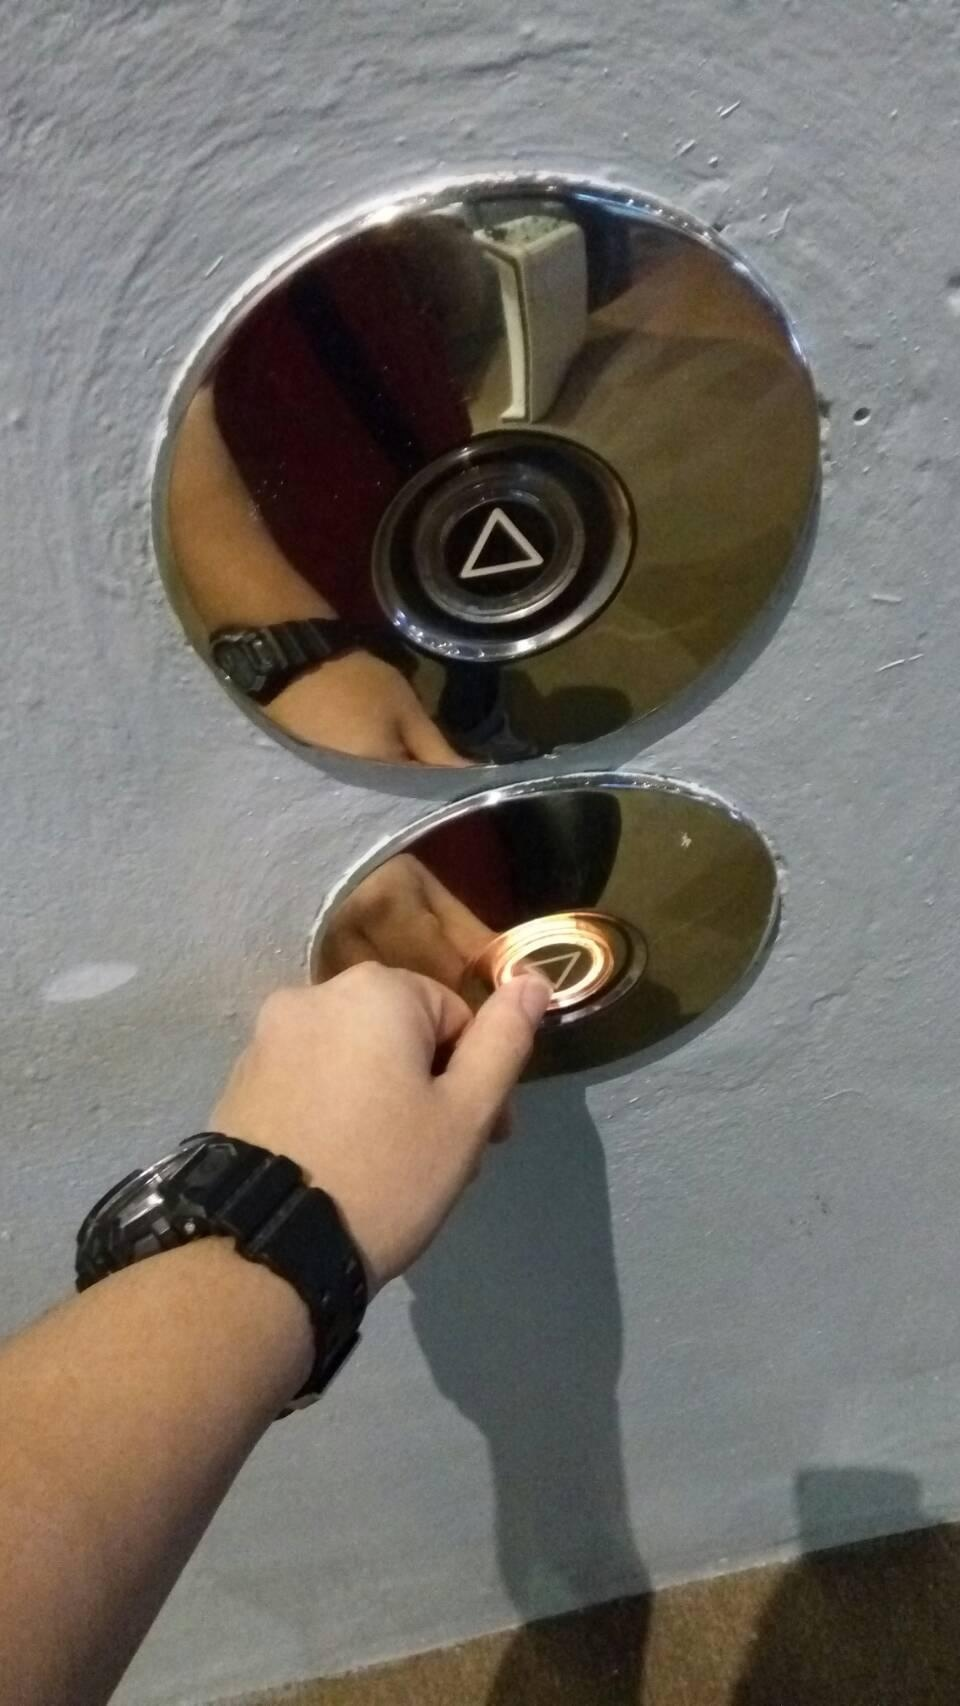down: (477, 910, 658, 1022)
up: (363, 426, 644, 677)
